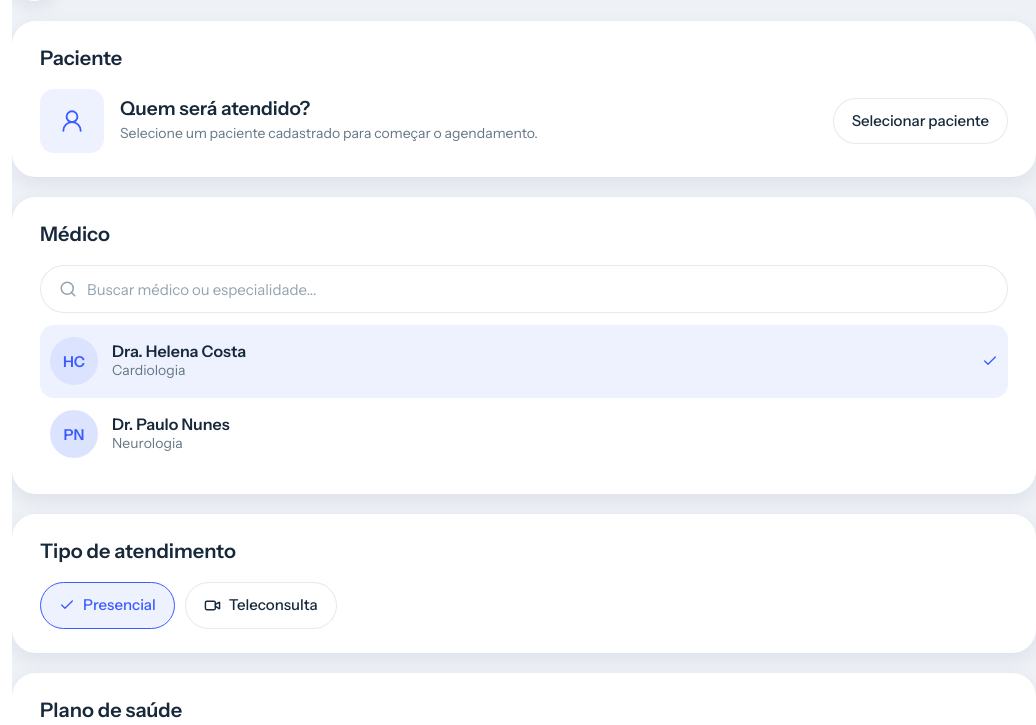
Test: consulta rápida recalcula o primeiro horário ao trocar de médico
The image size is (1036, 725).
Click the button "PN Dr. Paulo Nunes Neurologia" at (74,434), box [40, 398, 1008, 470]
(page scrolled)
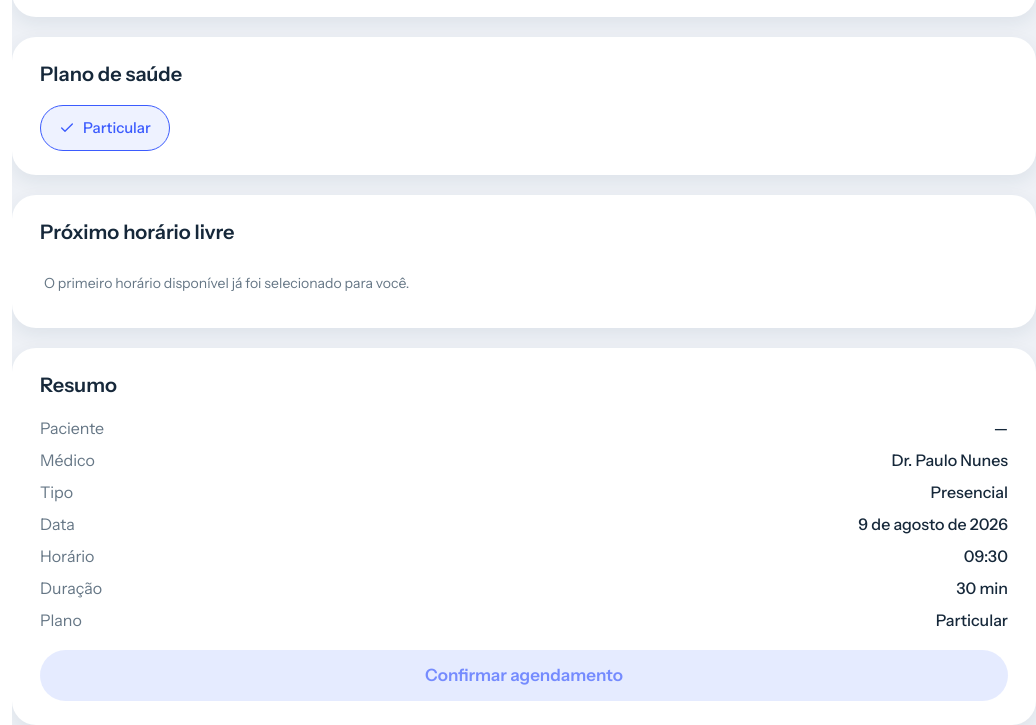
Expected: the text "Dr. Paulo Nunes" is shown, [892, 448, 1008, 472]
Expected: the text "9 de agosto de 2026" is shown, [858, 512, 1008, 536]
Expected: the text "09:30" is shown, [964, 544, 1008, 568]
